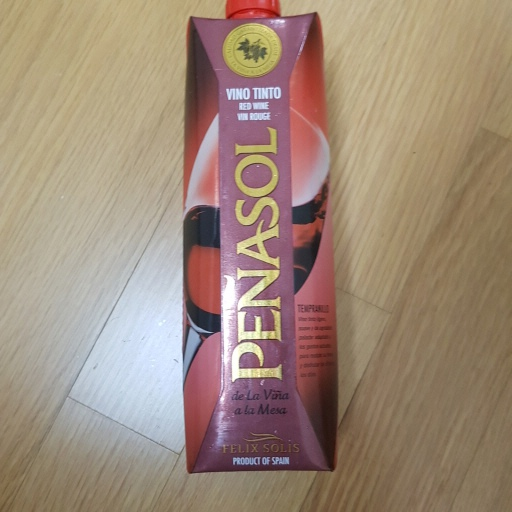Paper_0: (180, 8, 358, 484)
